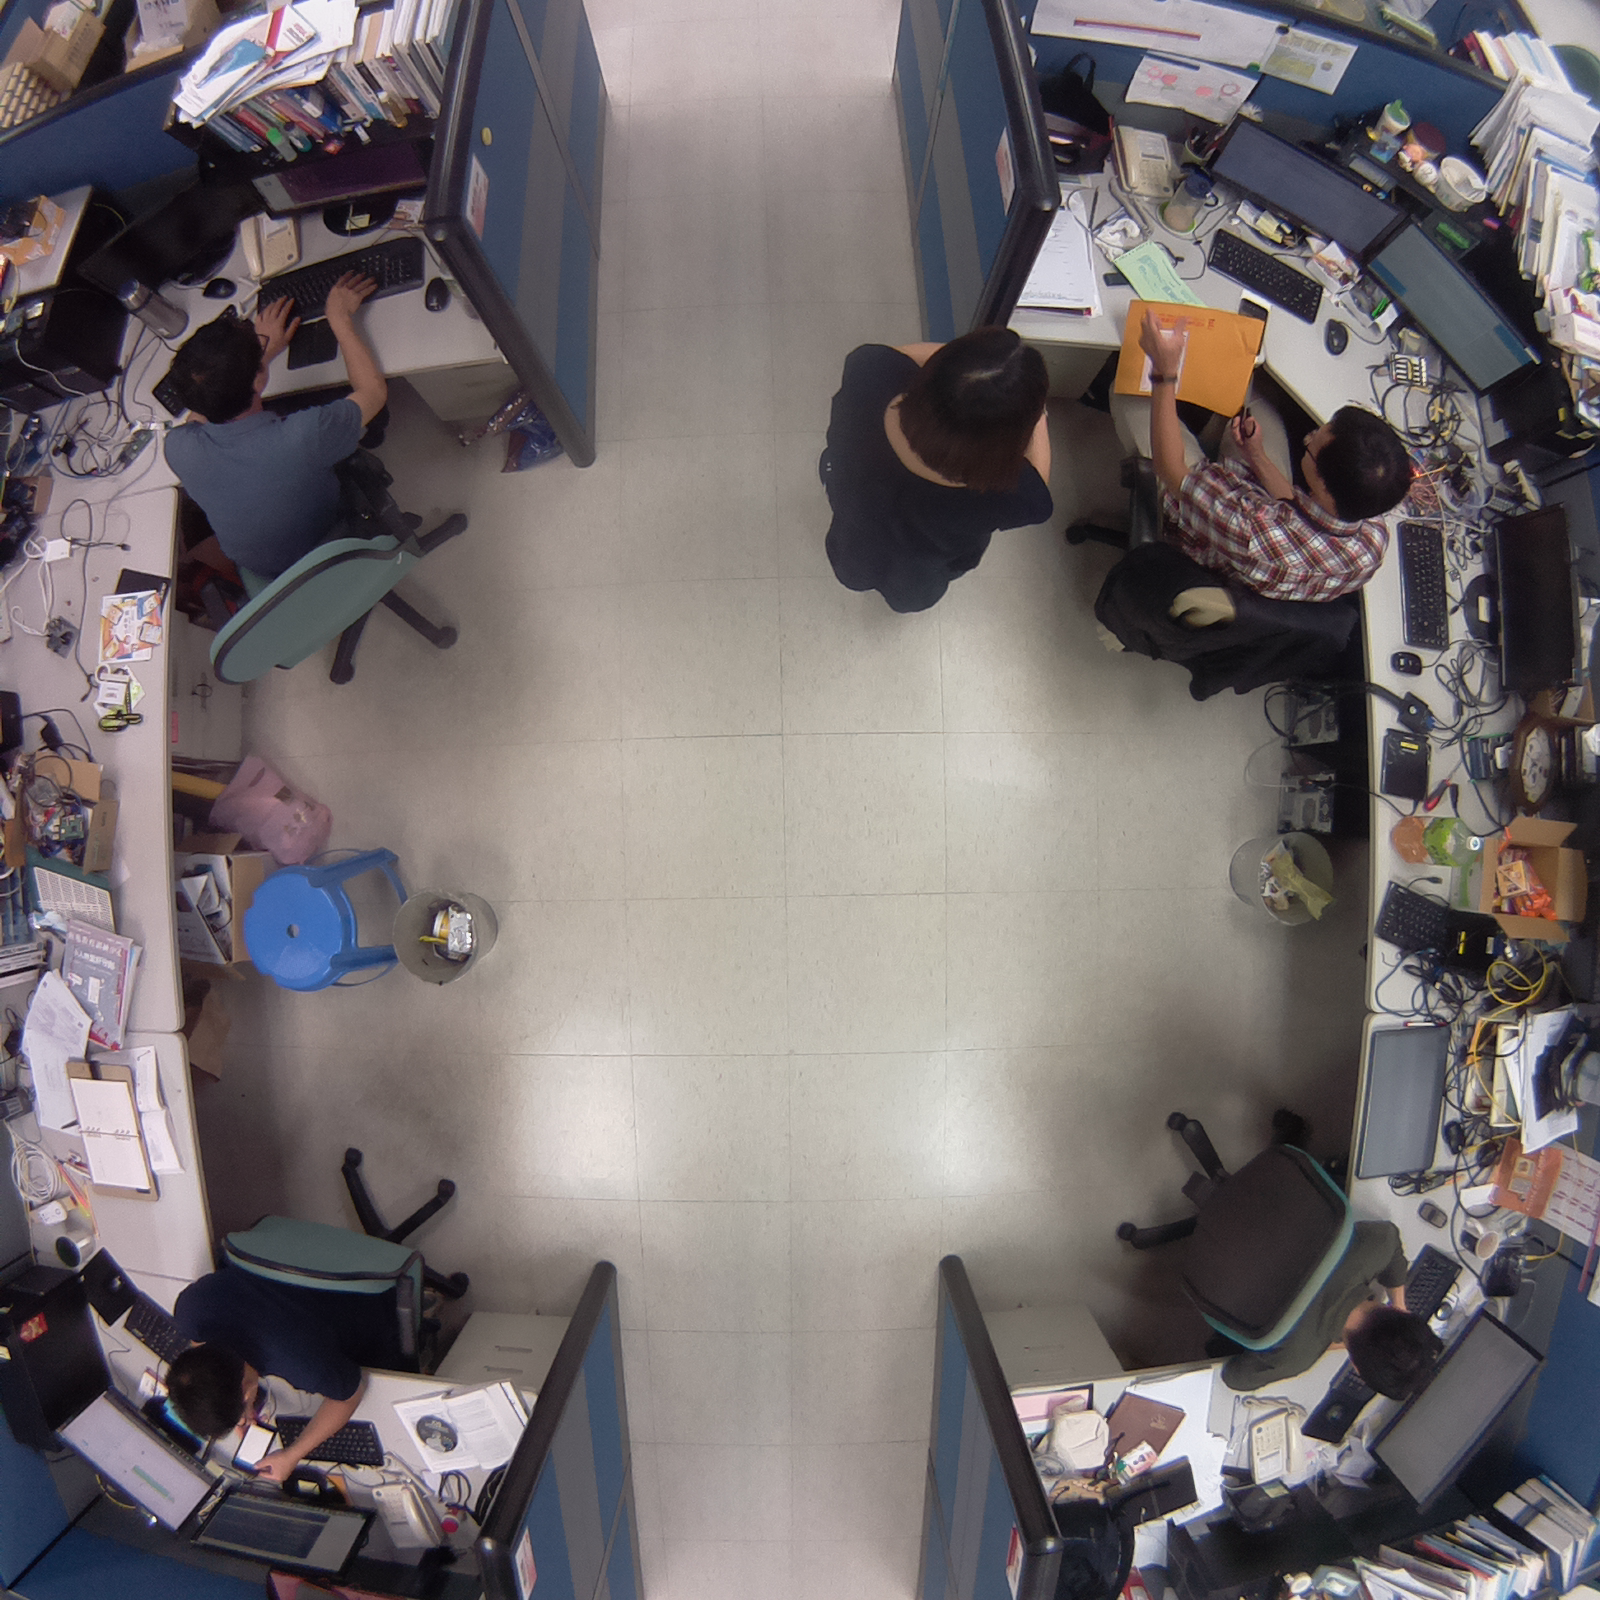head: (892, 318, 1063, 480), (1286, 391, 1419, 527), (157, 303, 279, 420), (154, 1338, 268, 1445), (1343, 1294, 1446, 1407)
sitting: (1053, 301, 1418, 701), (138, 307, 488, 706), (150, 1127, 488, 1489), (1114, 1093, 1465, 1434)
standing: (807, 310, 1071, 628)
